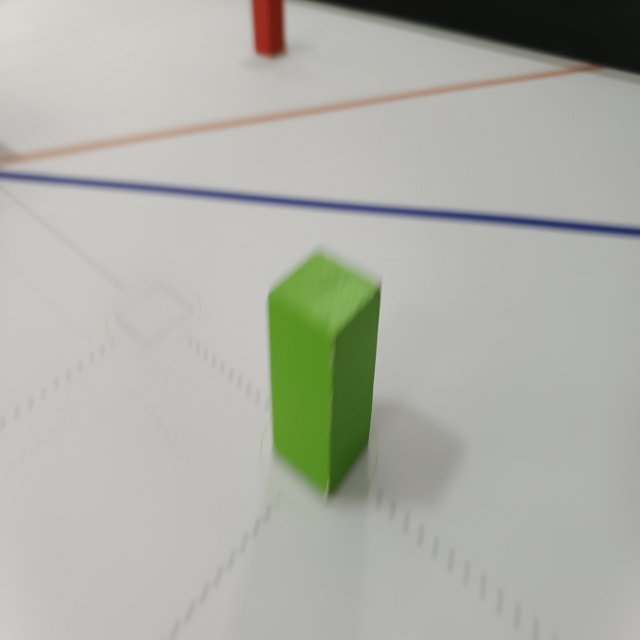blue line: (3, 171, 639, 239)
green rectangular prism: (258, 239, 390, 511)
orange line: (0, 65, 607, 166)
red rectangular prism: (249, 0, 283, 61)
